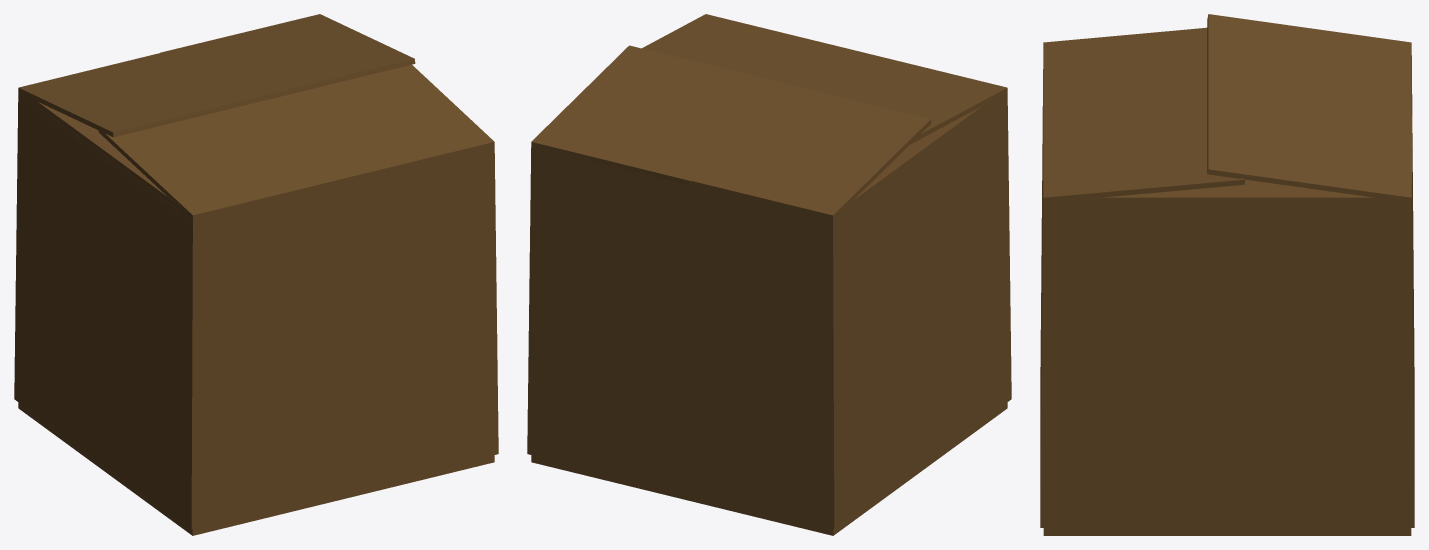
Rendered from ClosedBox.fbx.
The picture shows the model from 3 angles, left to right: view 1: azimuth 30°, elevation 25°; view 2: azimuth 150°, elevation 25°; view 3: azimuth 270°, elevation 25°; orthographic projection. The views are drawn at different scales.
Parts seen in each view (by area): view 1: Cube; view 2: Cube; view 3: Cube.
Boxes of the visible parts, bbox=[...] form: Cube: bbox=[14, 14, 498, 535]; Cube: bbox=[527, 14, 1011, 535]; Cube: bbox=[1040, 14, 1414, 535].
Bounding box in the file's own units: 134 × 145 × 134.
